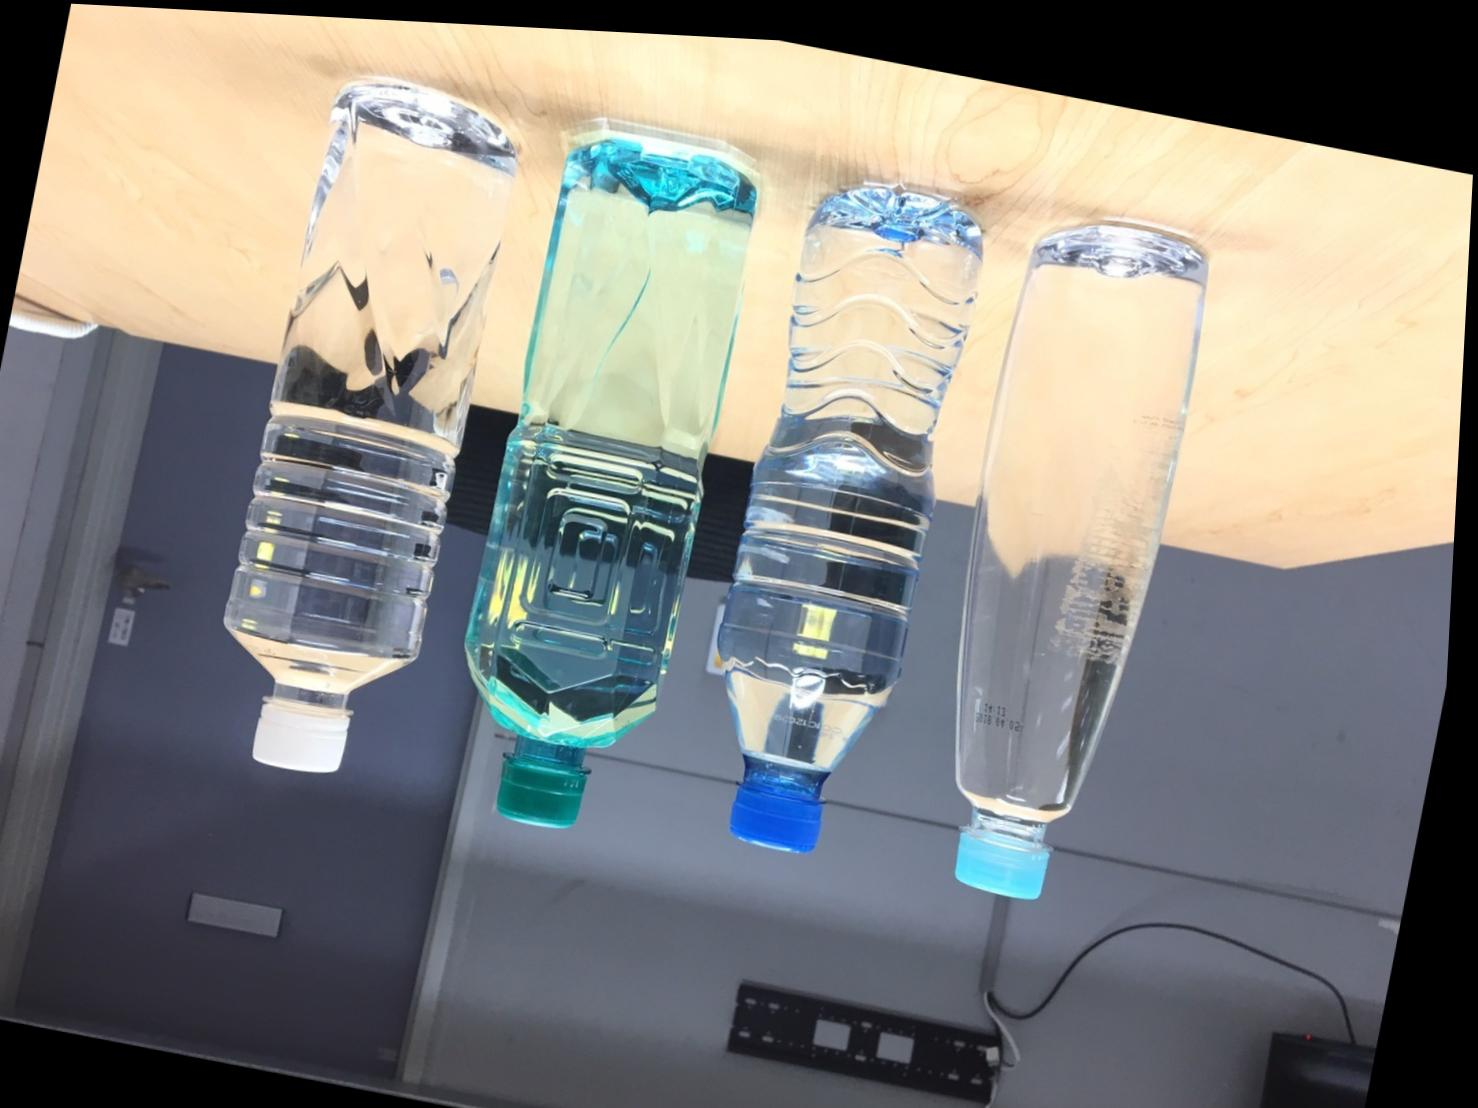plastic: (426, 108, 777, 852), (189, 65, 539, 805), (902, 199, 1230, 919), (676, 165, 1004, 878)
